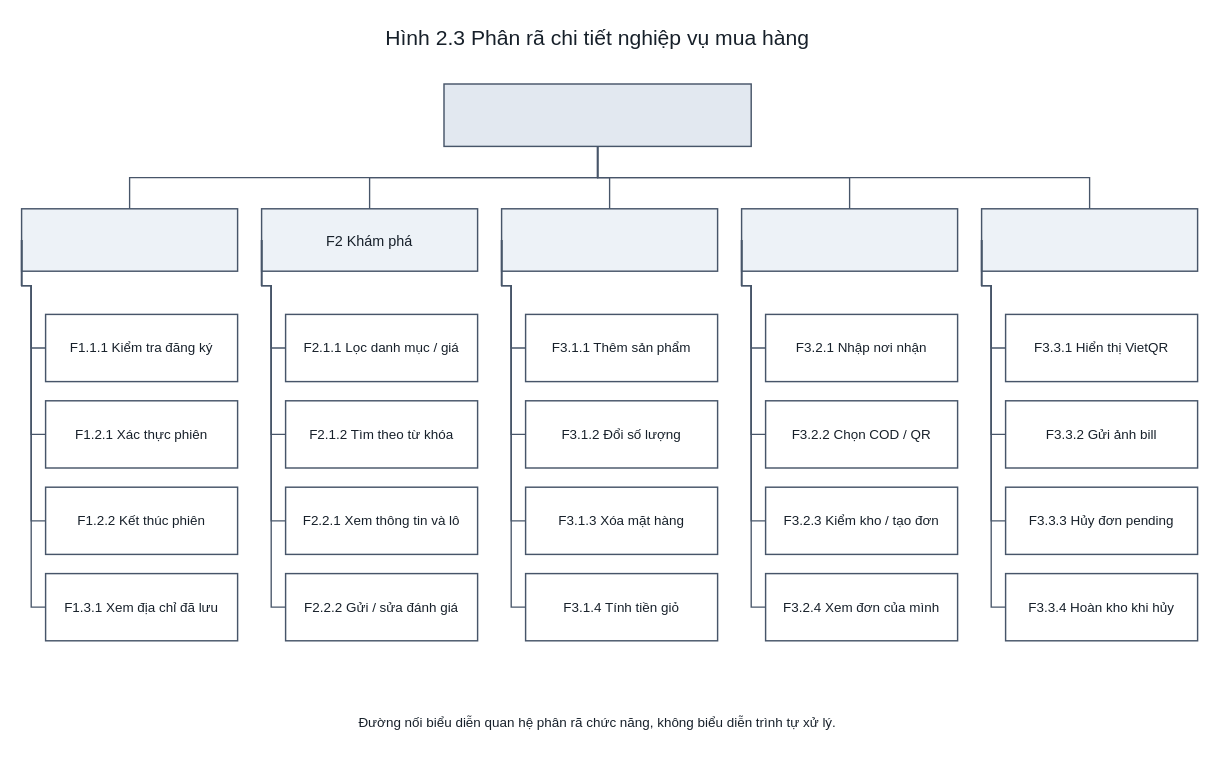
Some shapes in this 1214 by 772 pixel diagram are drawn without their labels. The centre of each missing label's shape, as x and y in pixels:
F1 Tài khoản: [129,239]
F1 đến F3 Khách mua nông sản: [597,115]
F3.1 Giỏ hàng: [609,239]
F3.2 Đặt hàng: [849,239]
F3.3 Sau đặt hàng: [1089,239]
